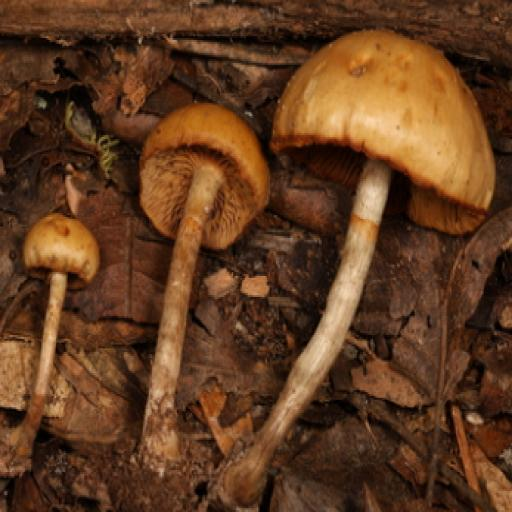Funeral Bell: (269, 22, 498, 468), (132, 83, 264, 422), (17, 198, 100, 465)
